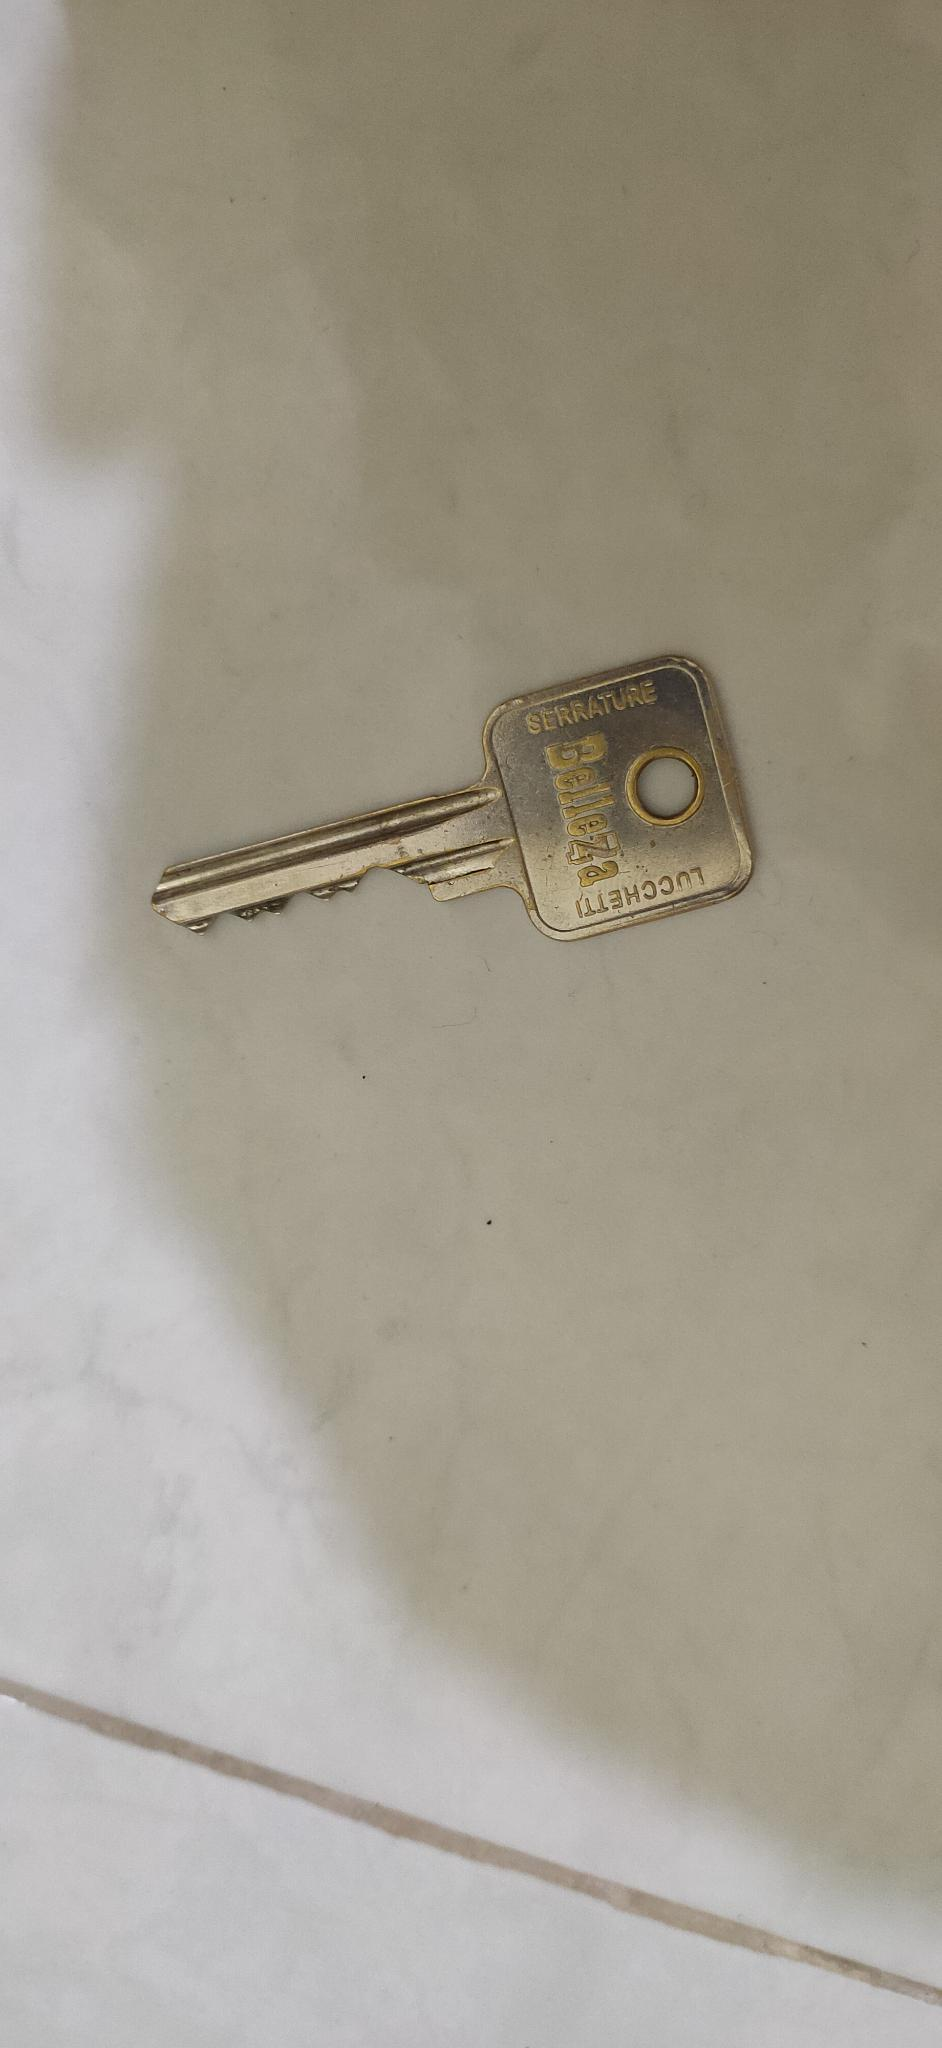keys: (138, 620, 783, 967)
